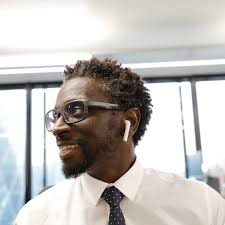earphone: (122, 107, 141, 143)
